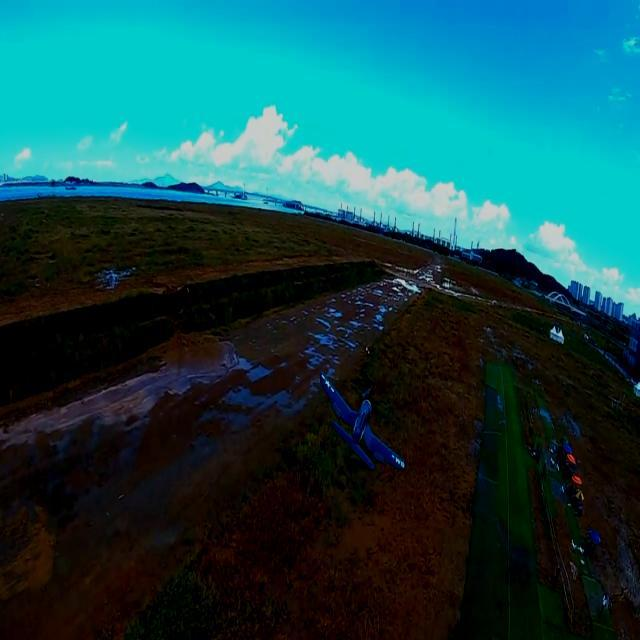iha: (348, 403, 379, 442)
